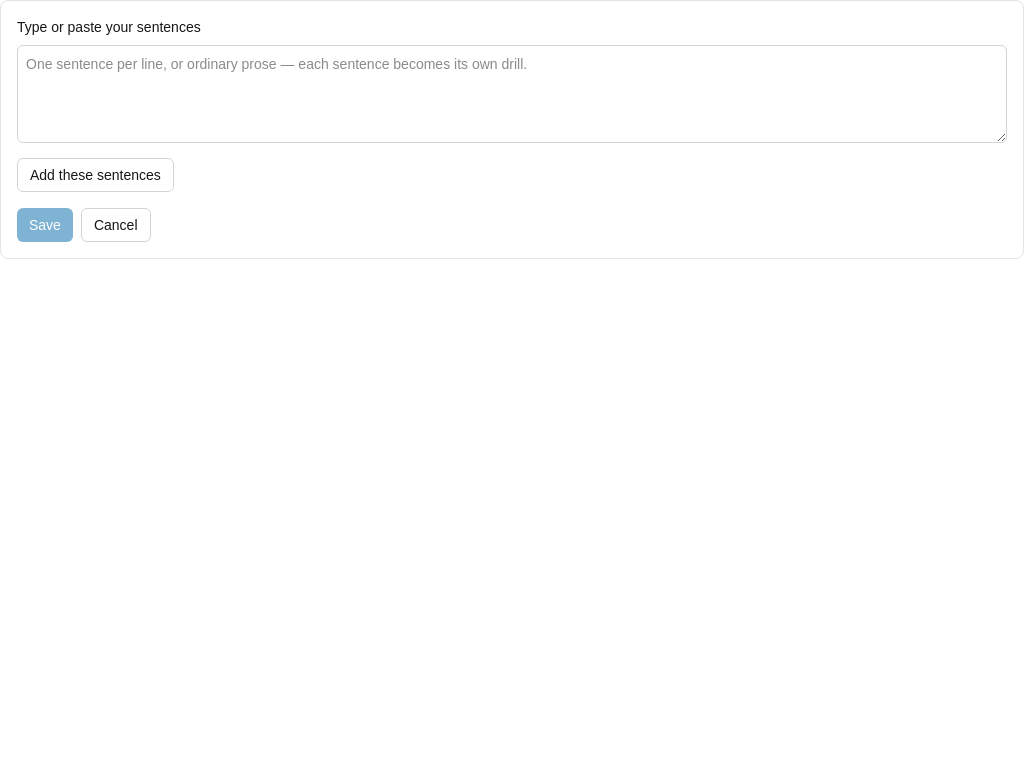
SentenceEditor — adding sentences › turns pasted prose into one editable row per sentence
Type "I live outside Moscow. She can do this work without my help." into the text box labelled "Type or paste your sentences" at (512, 94), box [17,45,1007,143]
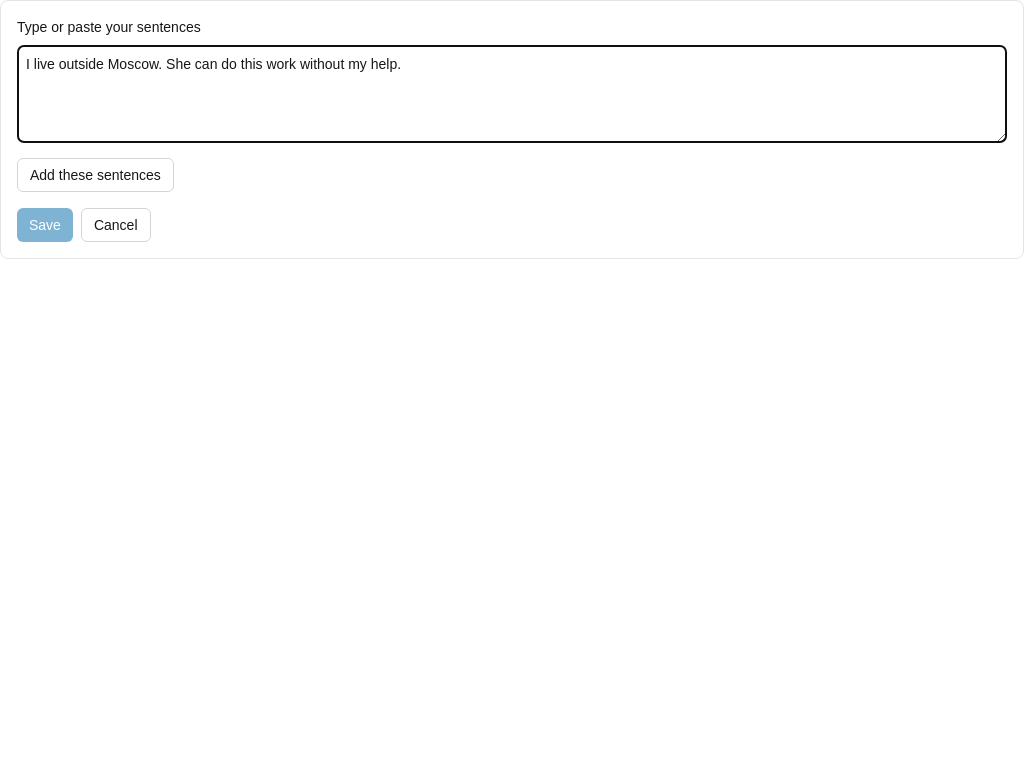
Click the button "Add these sentences" at (95, 175), box [17,158,174,192]
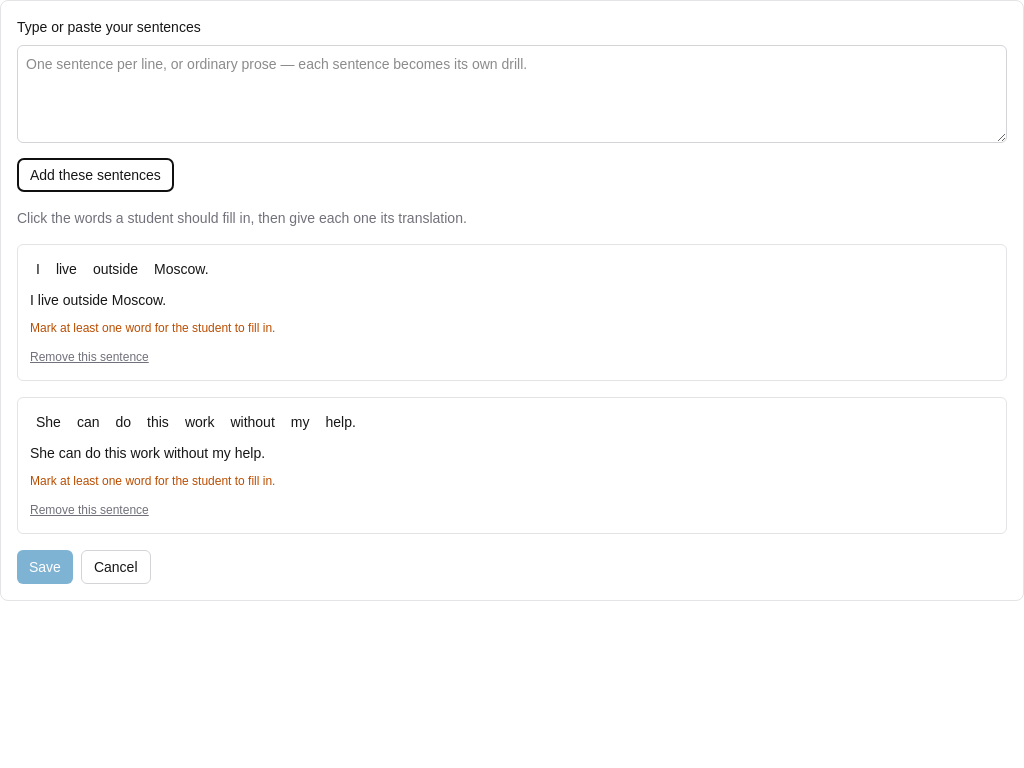
Now the number of list items with test id "sentence-row" is 2, box [17,244,1007,381]; [17,397,1007,534]
